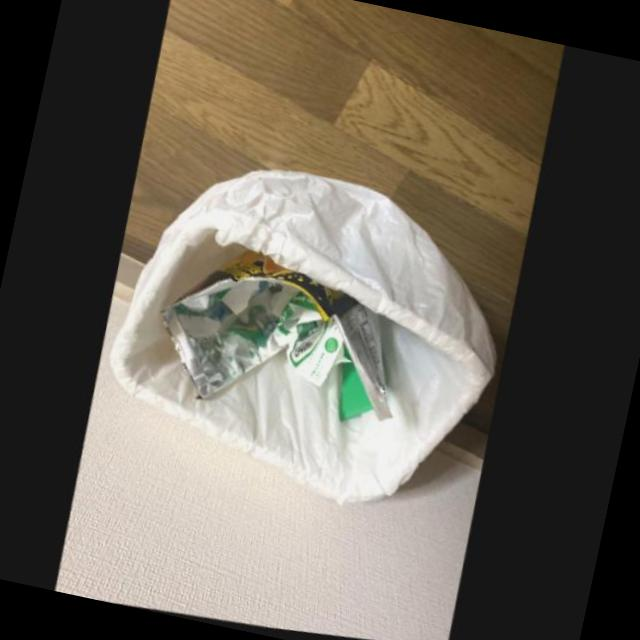bao_bi_thuc_pham: (163, 255, 392, 429)
carton: (338, 350, 373, 429)
giay: (274, 301, 352, 394)
